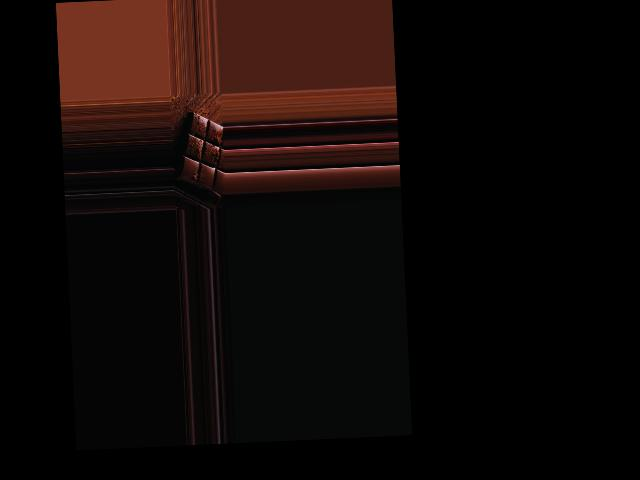chocolate: (174, 106, 225, 197)
